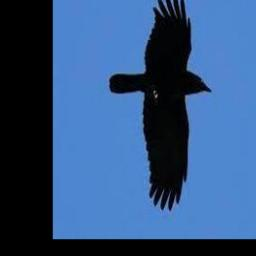Crow: (109, 0, 211, 211)
